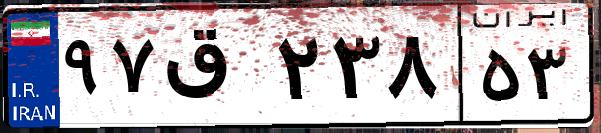2: (270, 28, 330, 110)
3: (330, 28, 385, 110), (525, 38, 570, 115)
5: (475, 38, 525, 113)
7: (110, 28, 158, 98)
8: (385, 28, 445, 110)
9: (57, 26, 110, 100)
ق: (158, 20, 270, 120)
